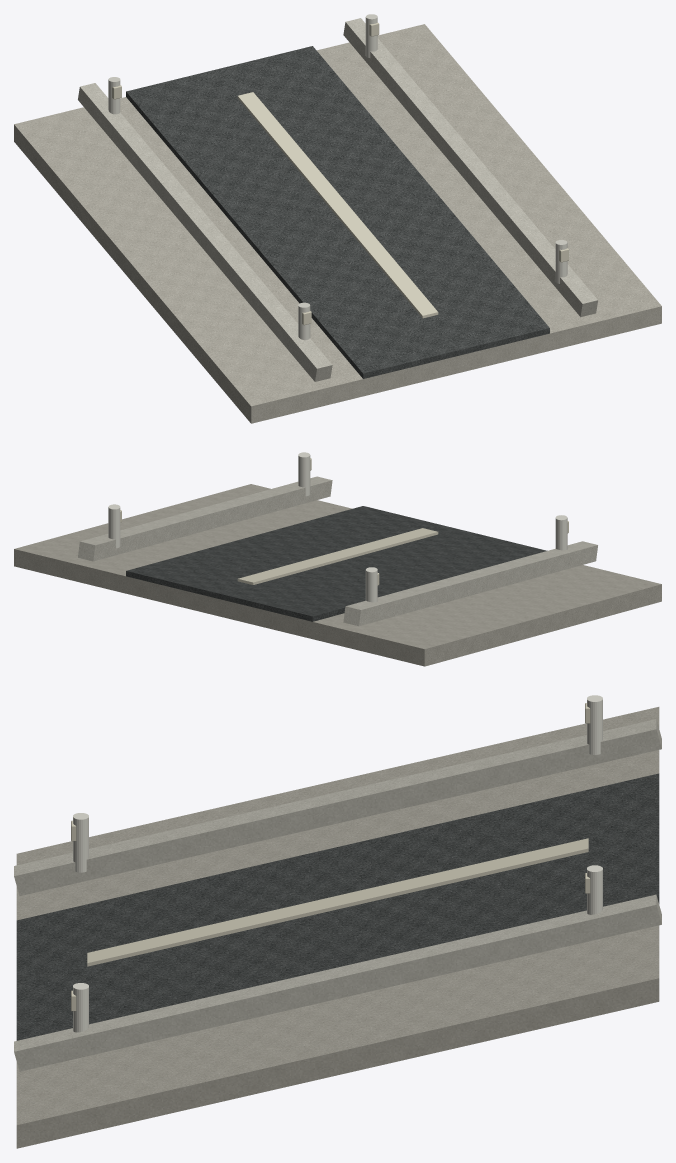
File: ROAD_LOCAL_SLOPE_1x1_UP_050.glb
3 views of the same model, one above another, from view 1: azimuth 30°, elevation 25°; view 2: azimuth 150°, elevation 25°; view 3: azimuth 270°, elevation 25° (orthographic). The views are drawn at different scales.
Parts seen in each view (by area): view 1: ROAD_LOCAL_SLOPE_1x1_UP_050_Visual; view 2: ROAD_LOCAL_SLOPE_1x1_UP_050_Visual; view 3: ROAD_LOCAL_SLOPE_1x1_UP_050_Visual.
Boxes of the visible parts, x1,y1,x2,y2 form: ROAD_LOCAL_SLOPE_1x1_UP_050_Visual: (14, 14, 661, 423); ROAD_LOCAL_SLOPE_1x1_UP_050_Visual: (14, 452, 661, 666); ROAD_LOCAL_SLOPE_1x1_UP_050_Visual: (14, 695, 661, 1148).
Size of what is drawn, in the model's own units: 1.98 by 0.78 by 2.
Materials: 5 (3 with a texture image).
